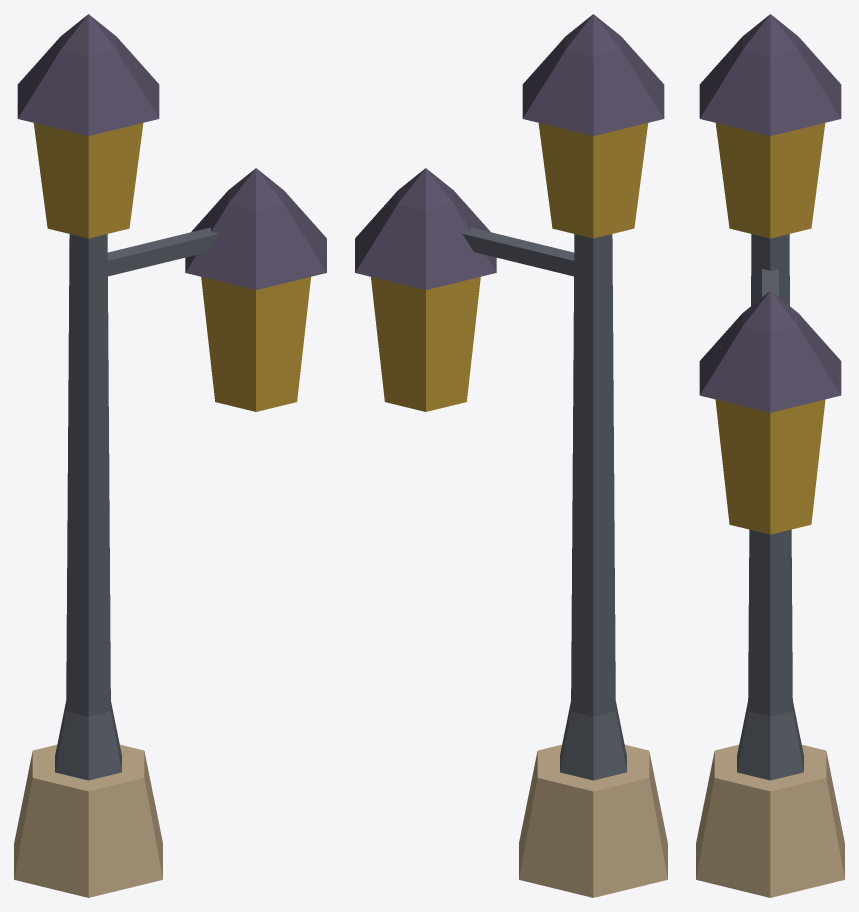
Rendered from lamp_post.fbx.
3 views of the same model, side by side, from view 1: azimuth 30°, elevation 25°; view 2: azimuth 150°, elevation 25°; view 3: azimuth 270°, elevation 25° (orthographic).
Parts seen in each view (by area): view 1: lamp_post; view 2: lamp_post; view 3: lamp_post.
Part boxes in pixels (box(x1,y1,x2,y2)): lamp_post: box(14, 14, 326, 897); lamp_post: box(355, 14, 667, 897); lamp_post: box(696, 14, 844, 897).
Size of the model in its own units: 1.68 by 4.35 by 0.6928.
Materials: 1 (1 with a texture image).
